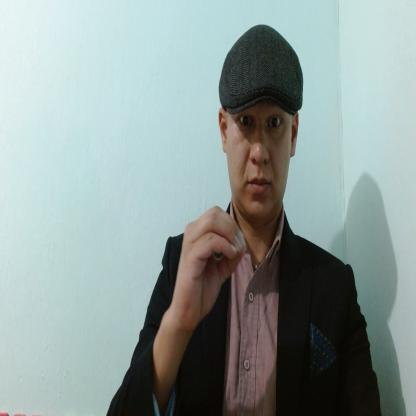O: (169, 203, 249, 327)
